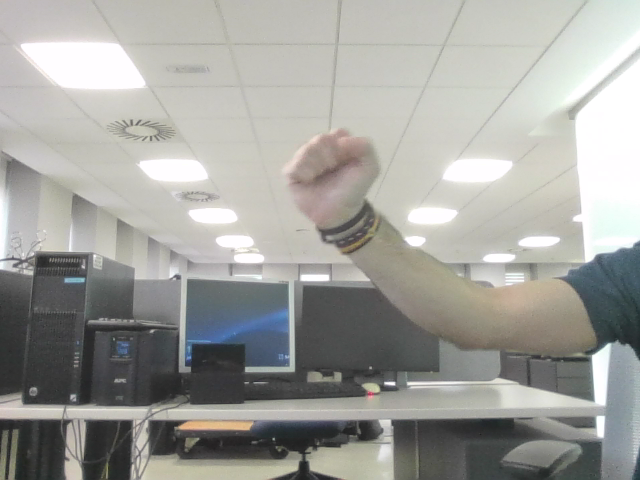Puño: (298, 134, 363, 190)
